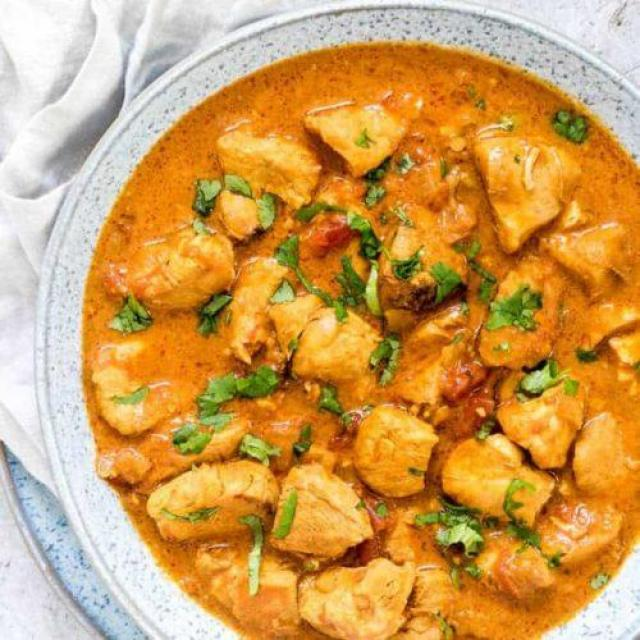chicken: (82, 50, 640, 640)
